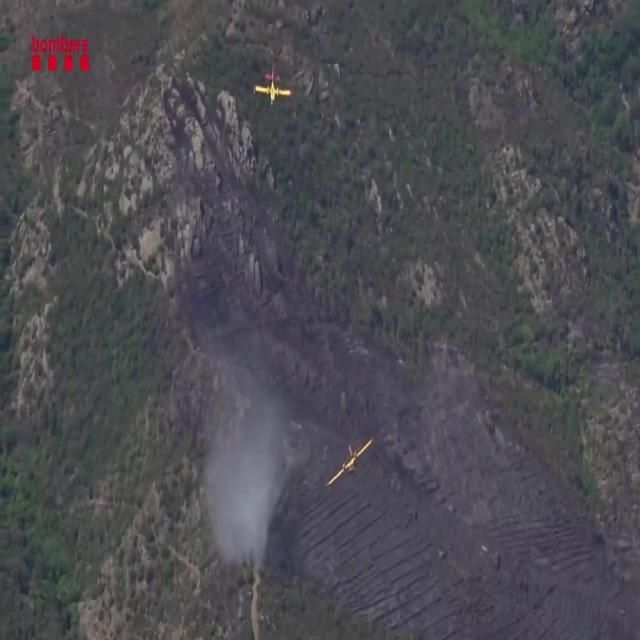Smoke: (190, 296, 294, 588)
